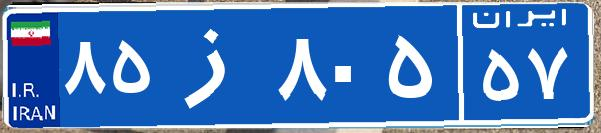0: (330, 28, 385, 110)
5: (385, 28, 445, 110), (475, 38, 525, 113), (110, 28, 158, 105)
7: (525, 38, 570, 115)
8: (273, 28, 330, 110), (57, 26, 110, 107)
ز: (158, 15, 273, 115)
